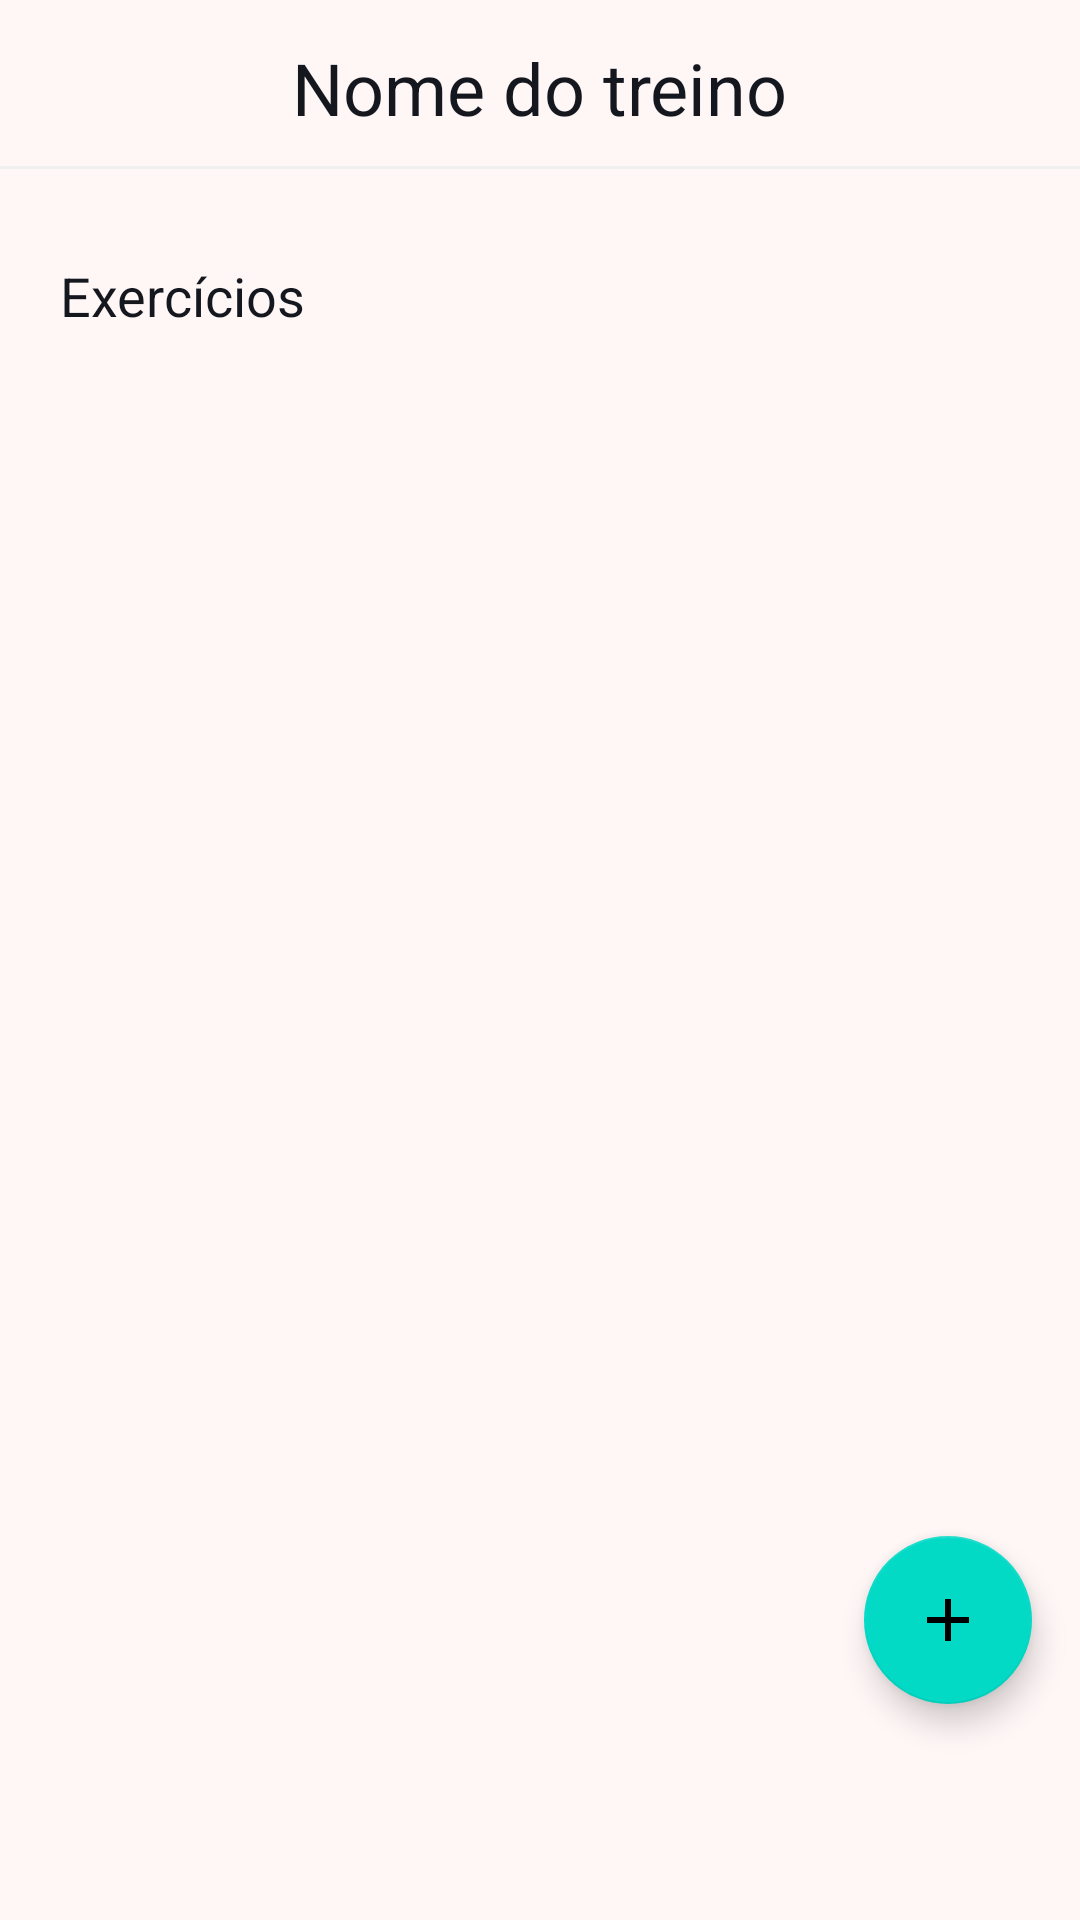

Where icons sit on this 1080x1920 app screen, as (x1, y1, x2, y2):
add: (864, 1536, 1032, 1704)
